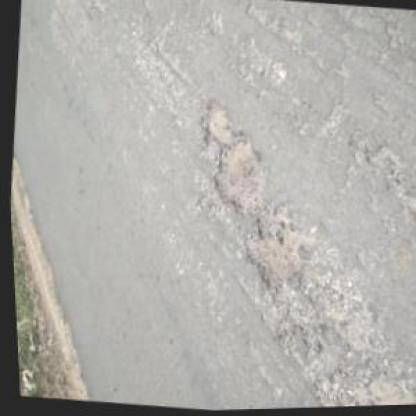pothole: (230, 201, 316, 302), (204, 129, 272, 222), (194, 97, 233, 147)
